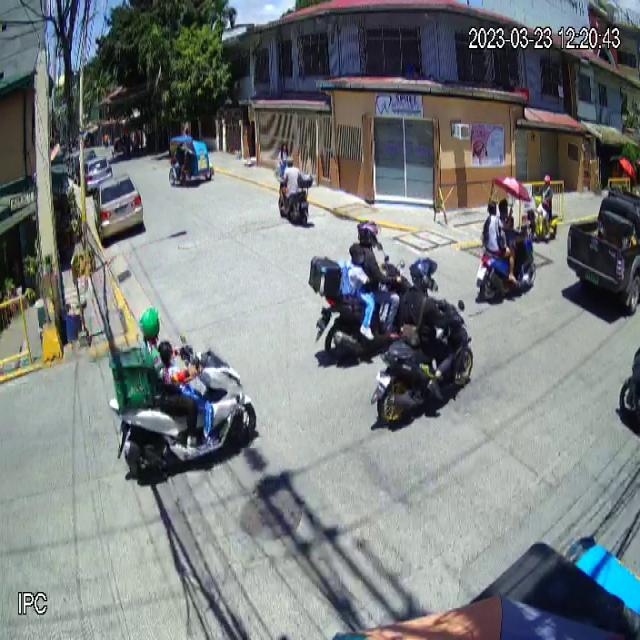Car: (567, 187, 640, 316)
Motorcycle: (106, 338, 258, 468), (371, 294, 481, 429)
